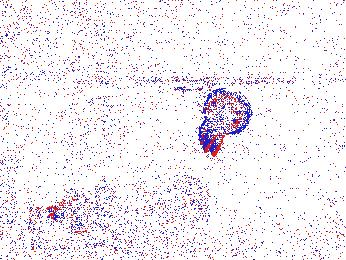flame jellyfish: (197, 87, 252, 155), (45, 186, 101, 234), (93, 185, 125, 230)
